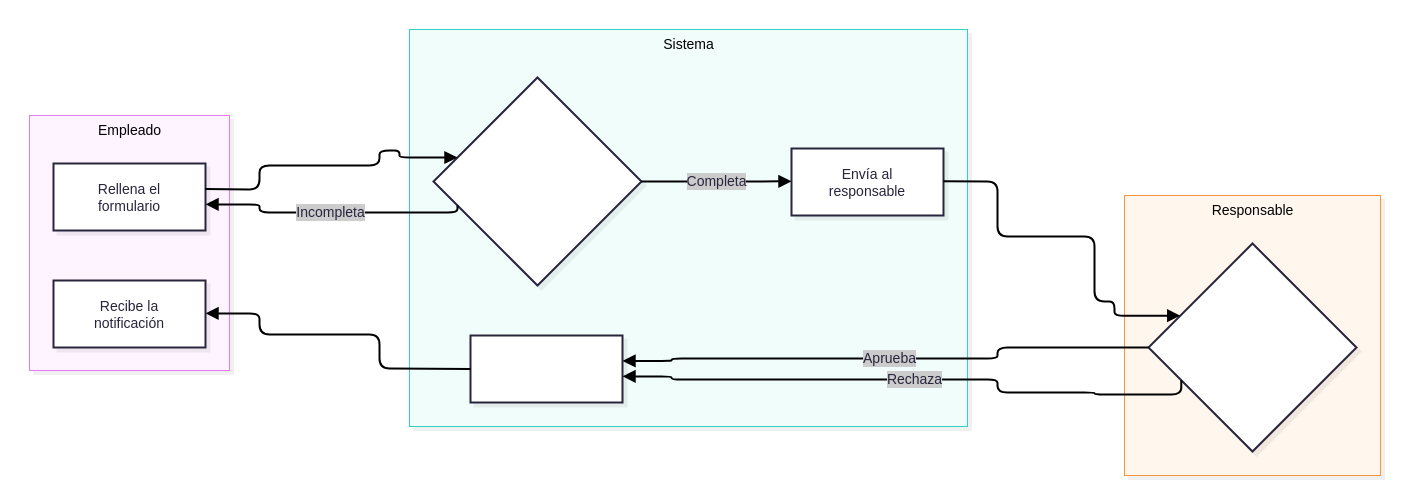
Image size: 1402x497. Some labels were removed from this diagram. Each missing label, with the centre of its shape:
Notifica el resultado: point 548,370
¿Aprueba?: point 1254,349
¿Datos completos?: point 539,183
